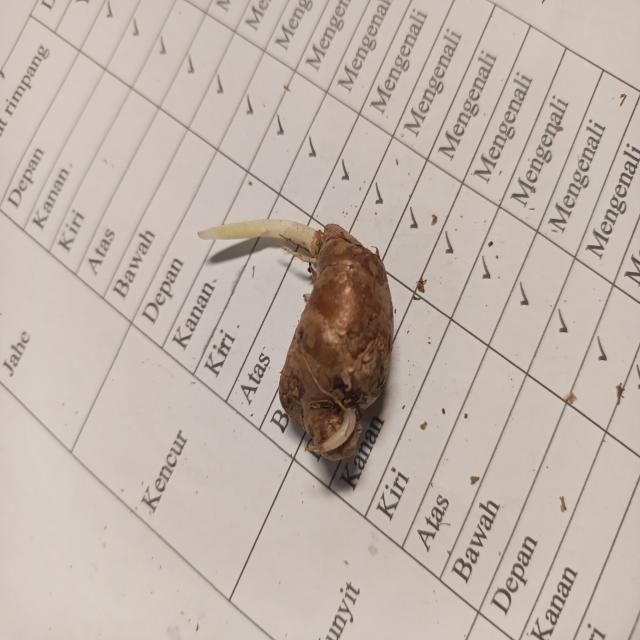ginger: (281, 226, 404, 452)
